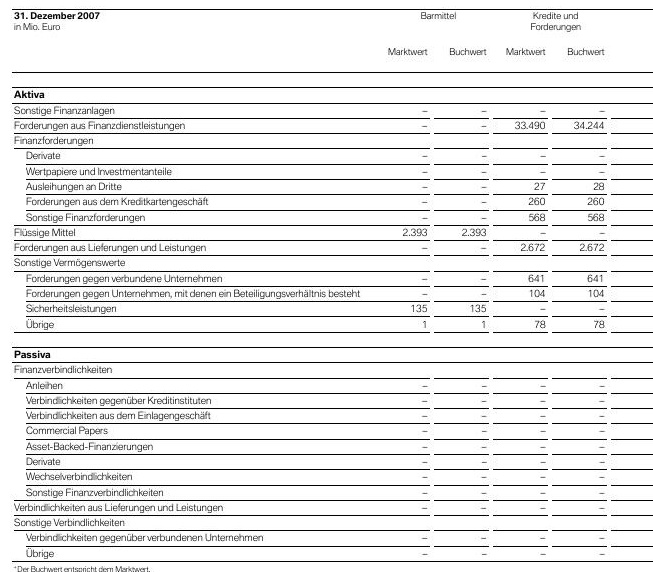table: (0, 0, 653, 572)
